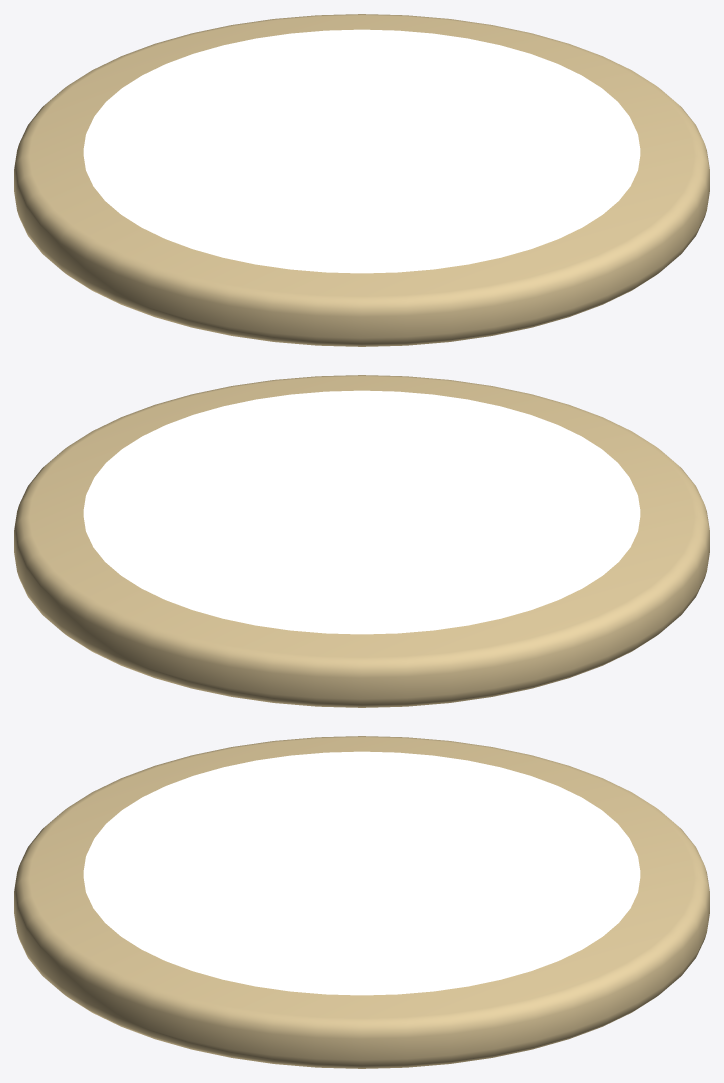
Rendered from Exit.fbx.
3 renders of one model, top to bottom at view 1: azimuth 30°, elevation 25°; view 2: azimuth 150°, elevation 25°; view 3: azimuth 270°, elevation 25°, orthographic.
Parts seen in each view (by area): view 1: Disc, Base; view 2: Disc, Base; view 3: Disc, Base.
Boxes of the visible parts, <box> form: Disc: <box>83,29,640,273</box>; Base: <box>14,14,709,346</box>; Disc: <box>83,390,640,634</box>; Base: <box>14,375,709,707</box>; Disc: <box>83,751,640,995</box>; Base: <box>14,736,709,1068</box>.
Bounding box in the file's own units: 0.9 × 0.085 × 0.9.
